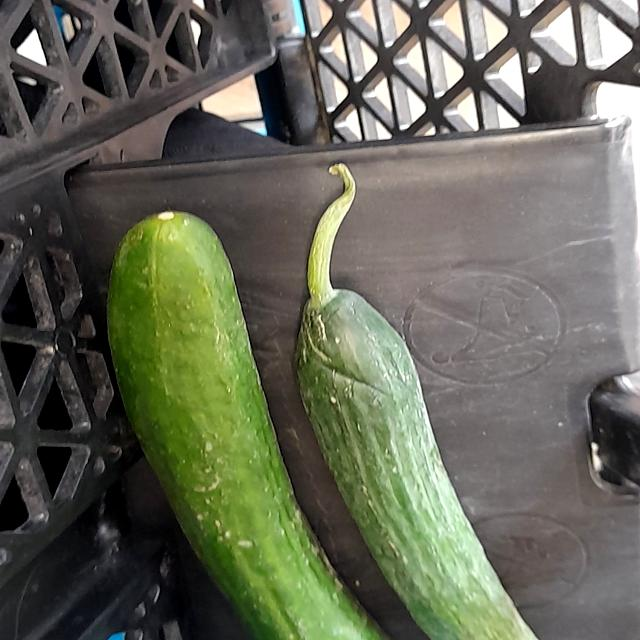cucumber: (101, 197, 381, 640), (286, 177, 546, 640)
